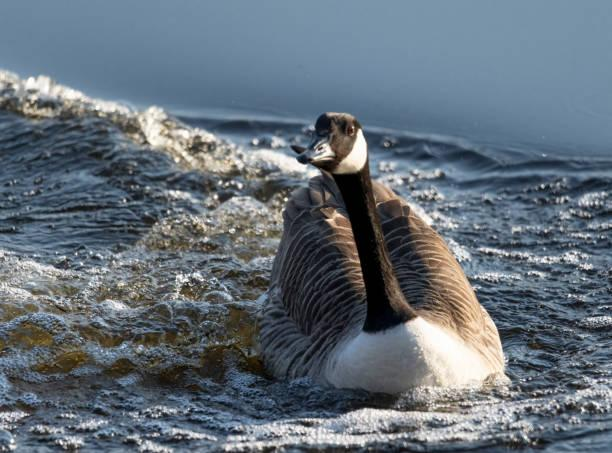Canadian-Goose: (247, 110, 509, 397)
